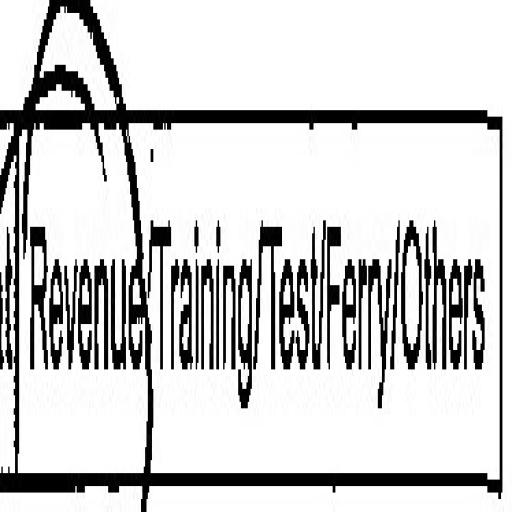check: (13, 0, 148, 512)
